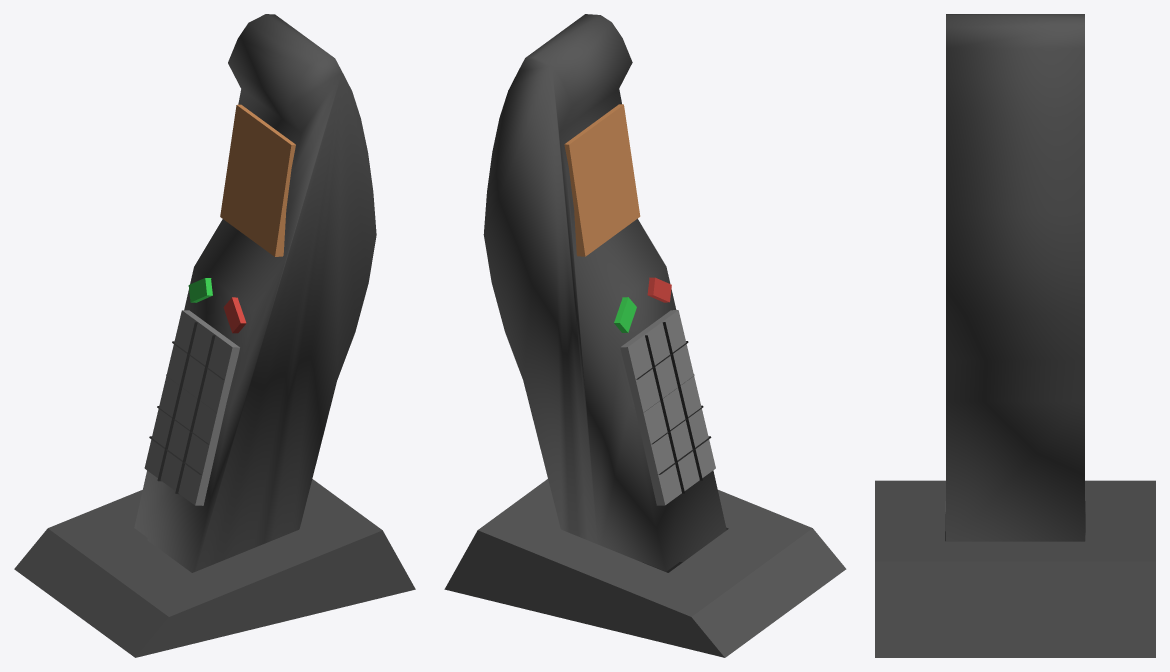
Rendered from phone.fbx.
3 renders of one model, left to right at view 1: azimuth 30°, elevation 25°; view 2: azimuth 150°, elevation 25°; view 3: azimuth 270°, elevation 25°, orthographic. The views are drawn at different scales.
Visible parts, largest first — view 1: Cube; view 2: Cube; view 3: Cube.
Boxes of the visible parts, x1,y1,x2,y2 form: Cube: (14, 14, 415, 657); Cube: (444, 14, 846, 657); Cube: (875, 14, 1155, 657).
Size of the model in its own units: 267 by 476 by 200.
